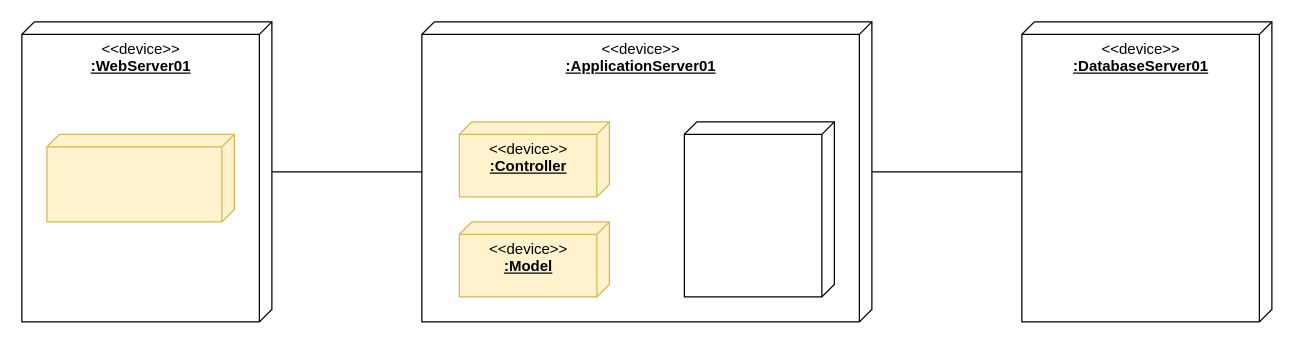
The diagram is 1294 pixels wide and 344 high, and some of its shapes have lost their labels. The shapes that lost their labels are listed below. From the top down, each one's centre as x and y in pixels, then its label:
[140,177]: <<device>> :View
[758,209]: <<device>> :JakataEEServer
